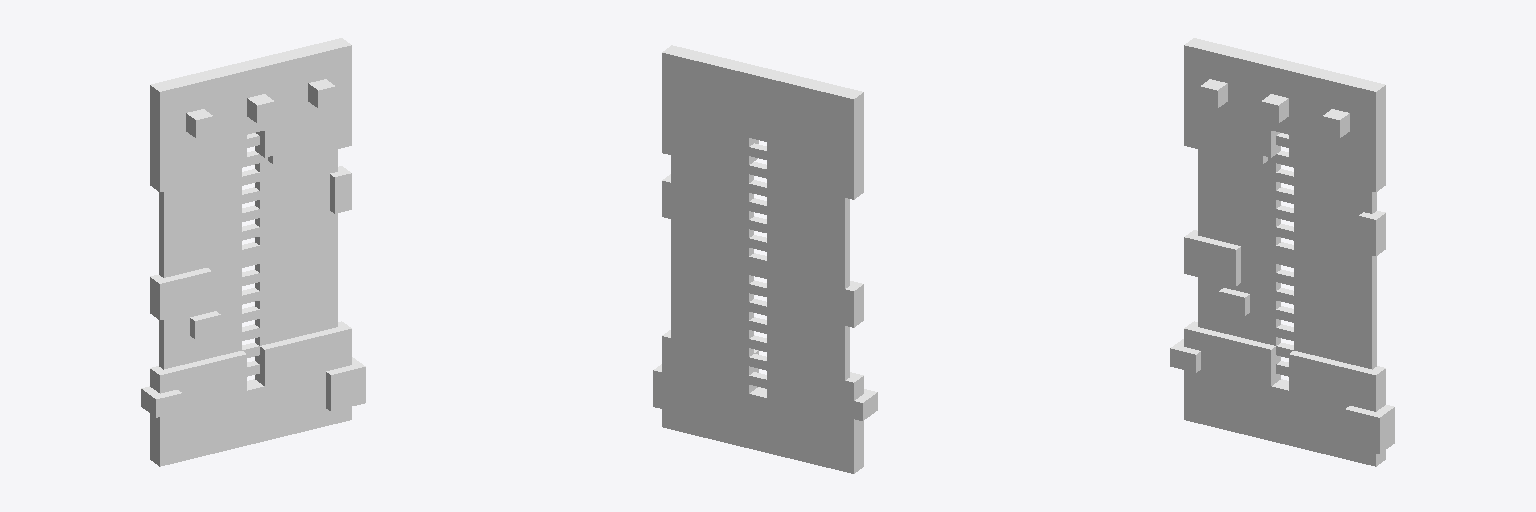
File: LargeBuilding01-0.obj
The picture shows the model from 3 angles: view 1: azimuth 30°, elevation 25°; view 2: azimuth 150°, elevation 25°; view 3: azimuth 330°, elevation 25°; orthographic projection.
Visible parts, largest first — view 1: object 1; view 2: object 1; view 3: object 1.
Part boxes in pixels (left/top/right/bottom): object 1: left=141, top=38, right=365, bottom=466; object 1: left=653, top=45, right=877, bottom=473; object 1: left=1170, top=38, right=1394, bottom=466.
Size of the model in its own units: 2.4 by 4.1 by 0.4.